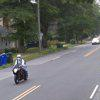Motorcycle: (6, 57, 32, 86)
